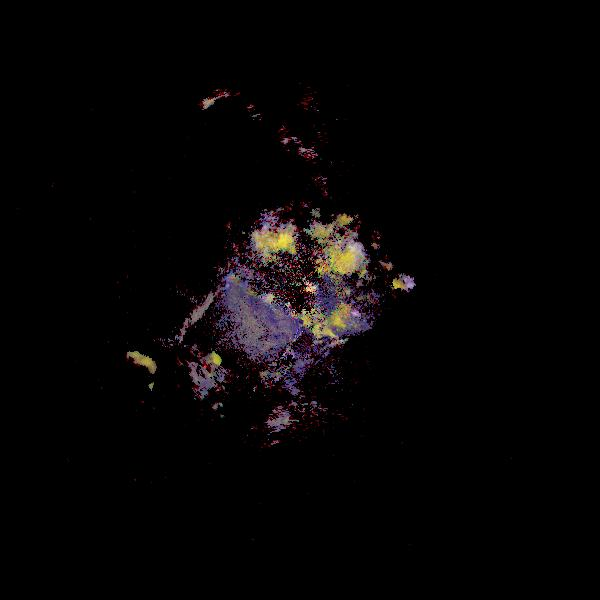roost: (110, 350, 161, 401), (189, 350, 225, 386)
